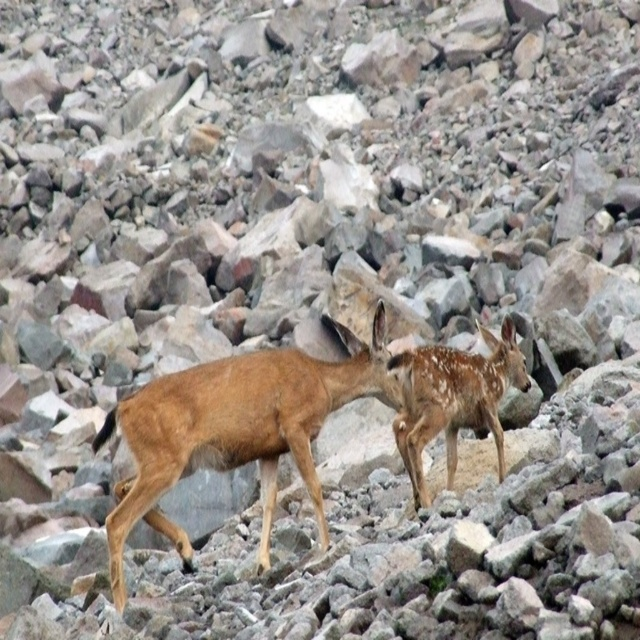Deer: (105, 299, 406, 615), (387, 312, 532, 513)
